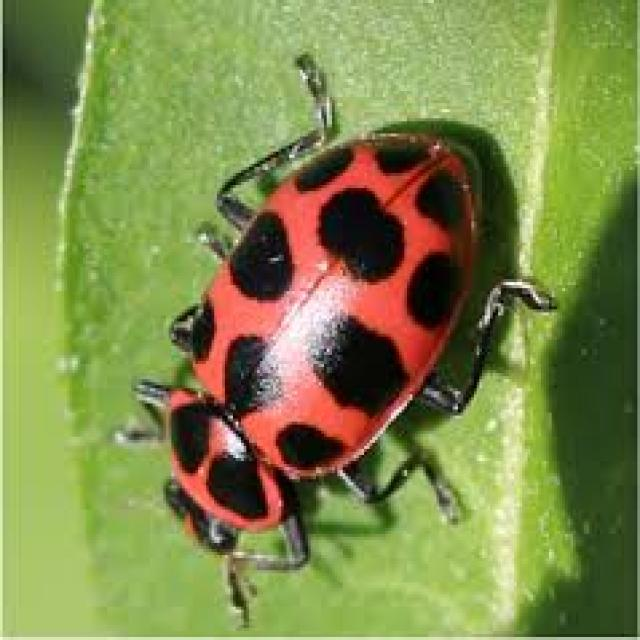bug: (111, 46, 560, 640)
